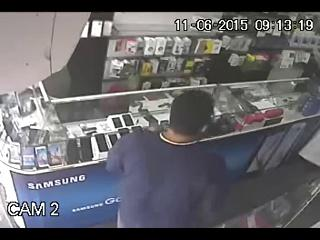Normal: (104, 87, 227, 228)
